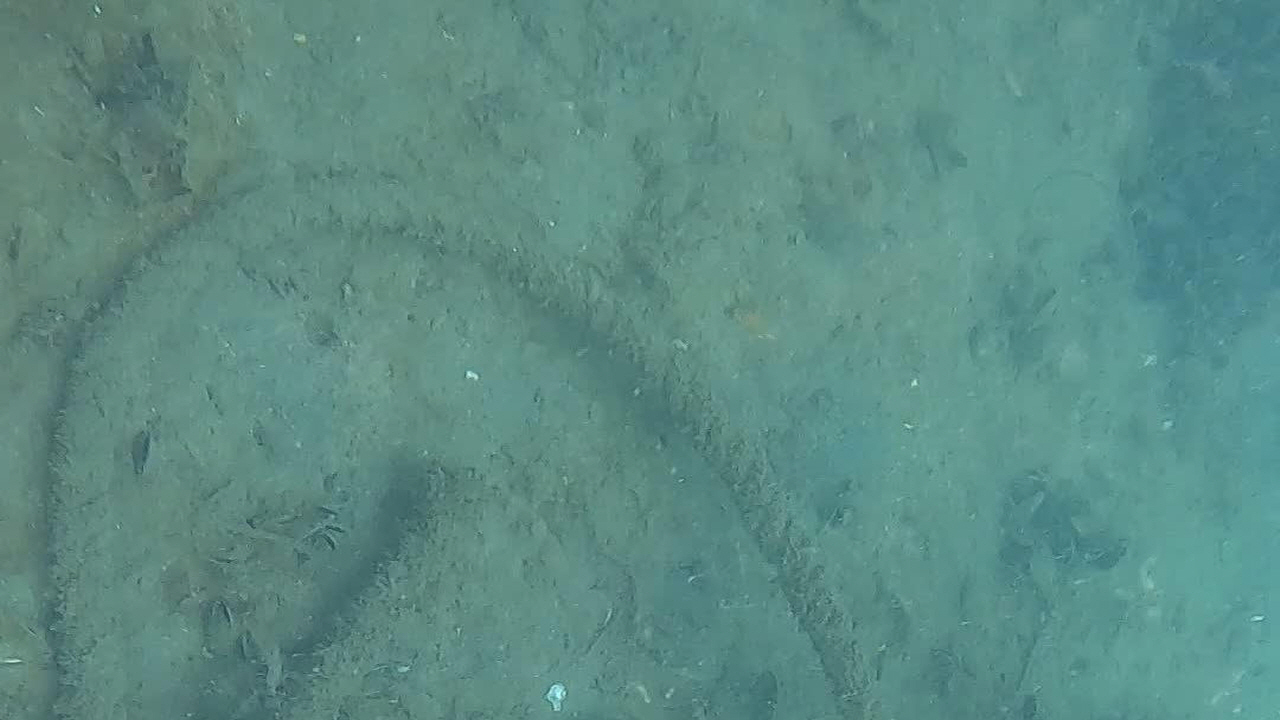rope: (39, 161, 895, 717)
